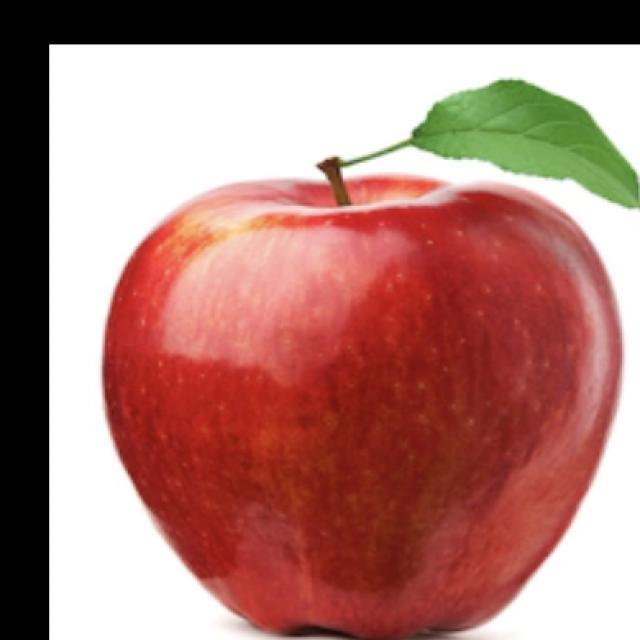Fresh Apple: (96, 166, 621, 640)
